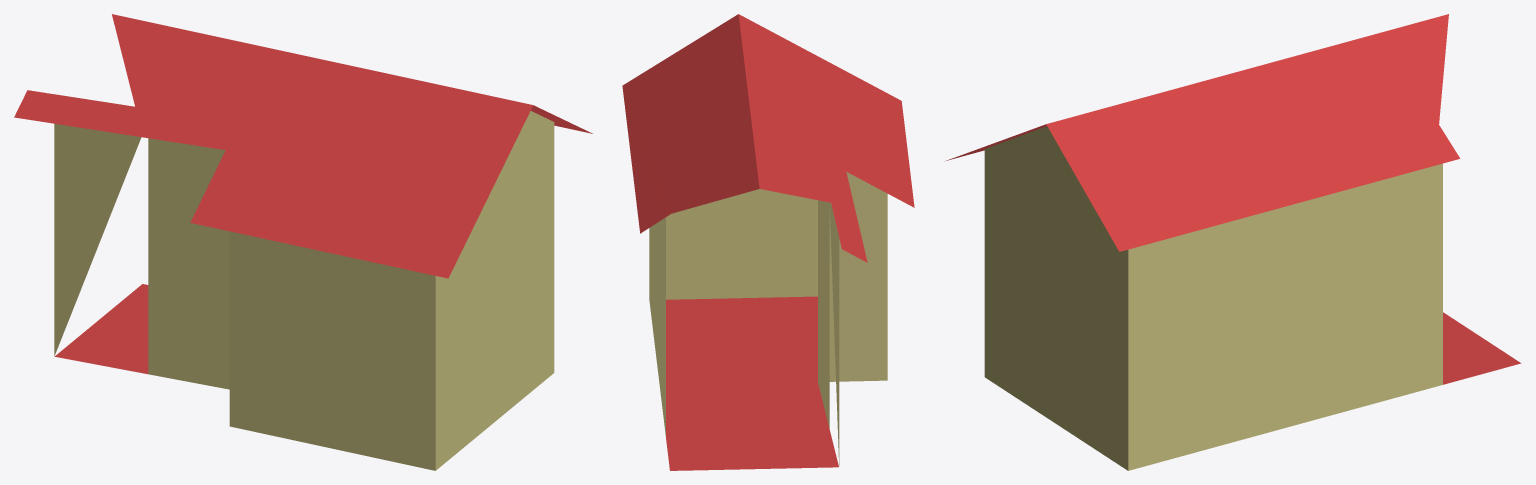
The picture shows the model from 3 angles, left to right: view 1: azimuth 30°, elevation 25°; view 2: azimuth 150°, elevation 25°; view 3: azimuth 270°, elevation 25°; orthographic projection. The views are drawn at different scales.
Size of the model in its own units: 16.87 by 19.39 by 11.71.
